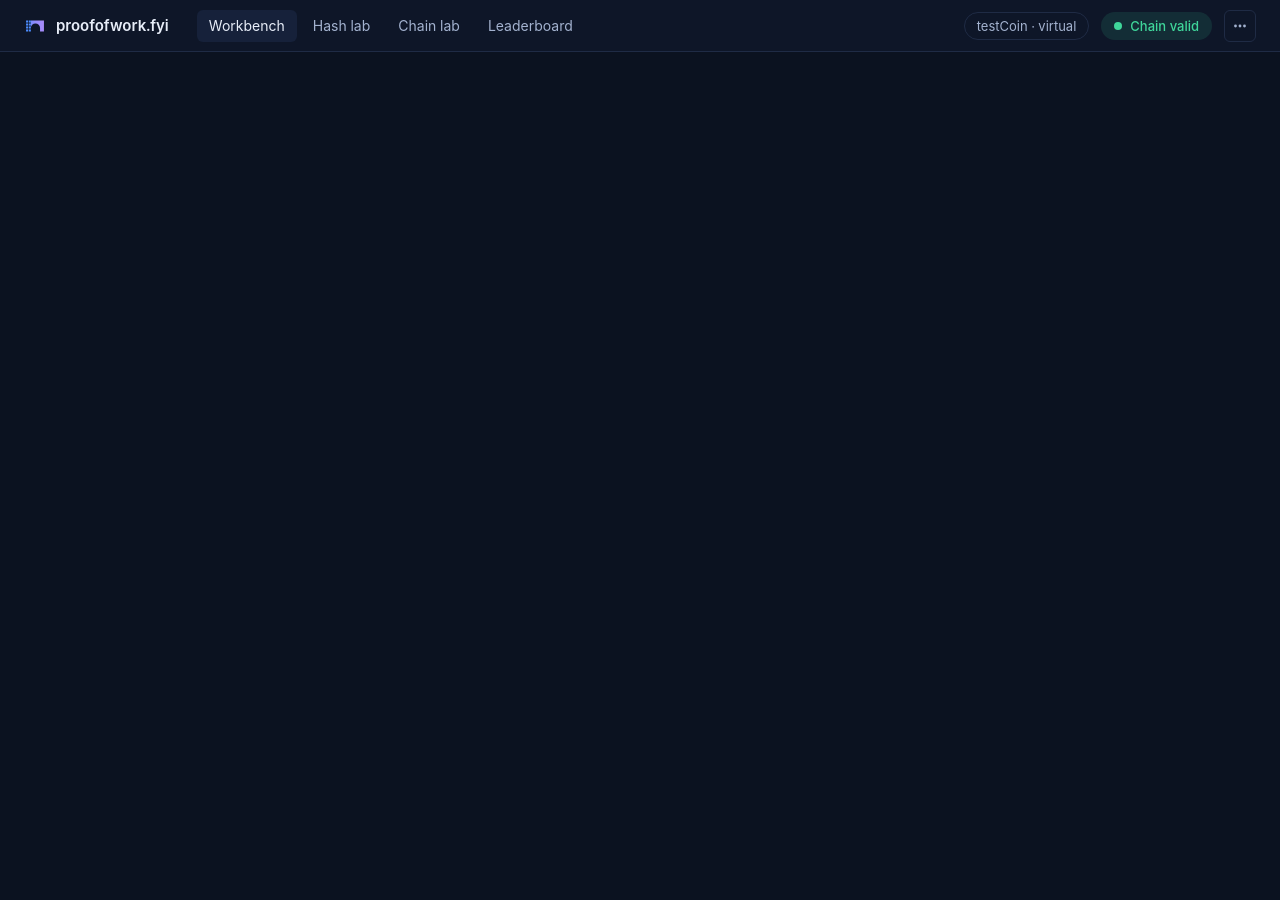
Test case: overflow menu › closes when the pointer goes down outside
Click the button named "More" at point(1240, 26), box [1224,10,1256,42]
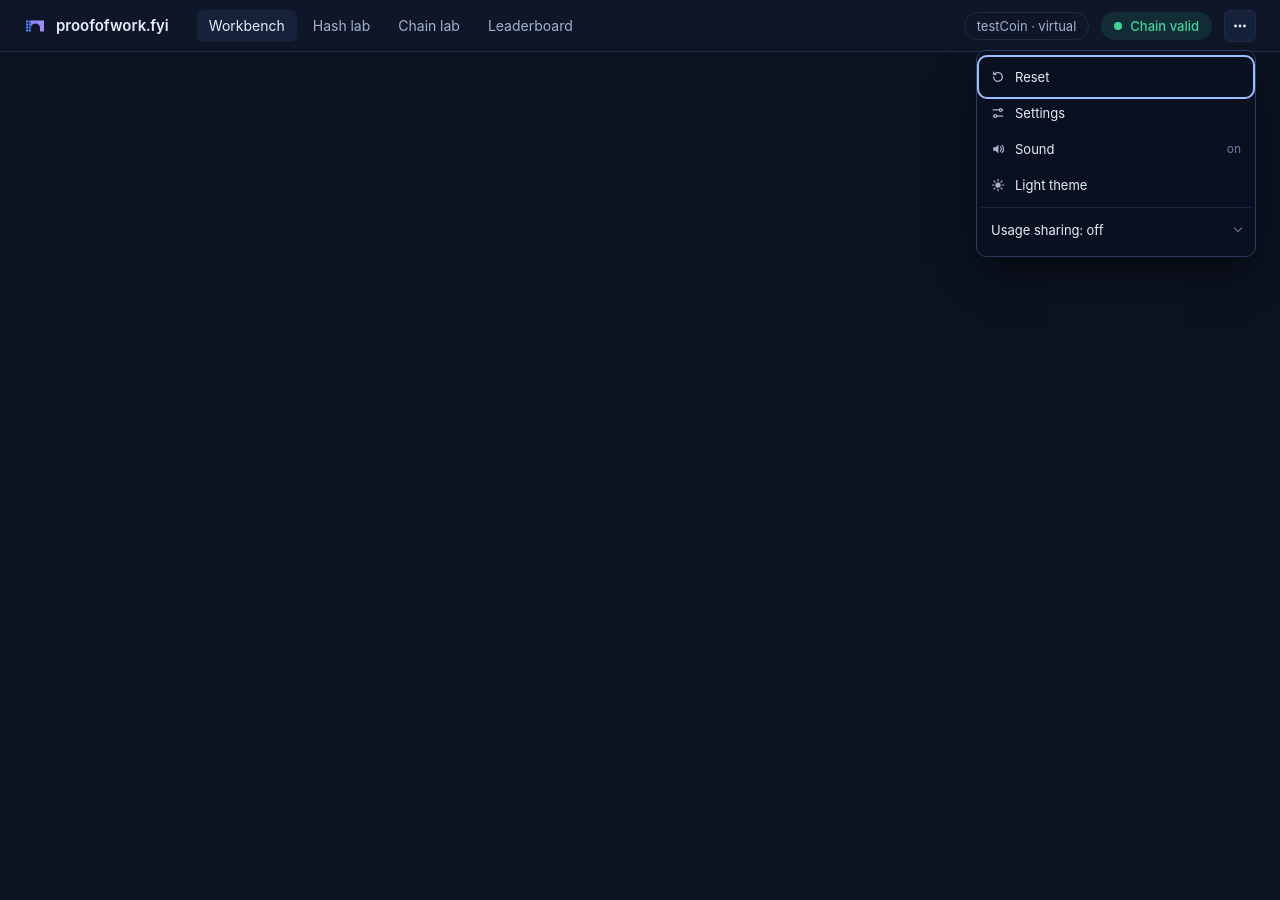
Press the mouse on the element that starts with "proofofwork.fyi" at point(640, 450), box [0,0,1279,899]
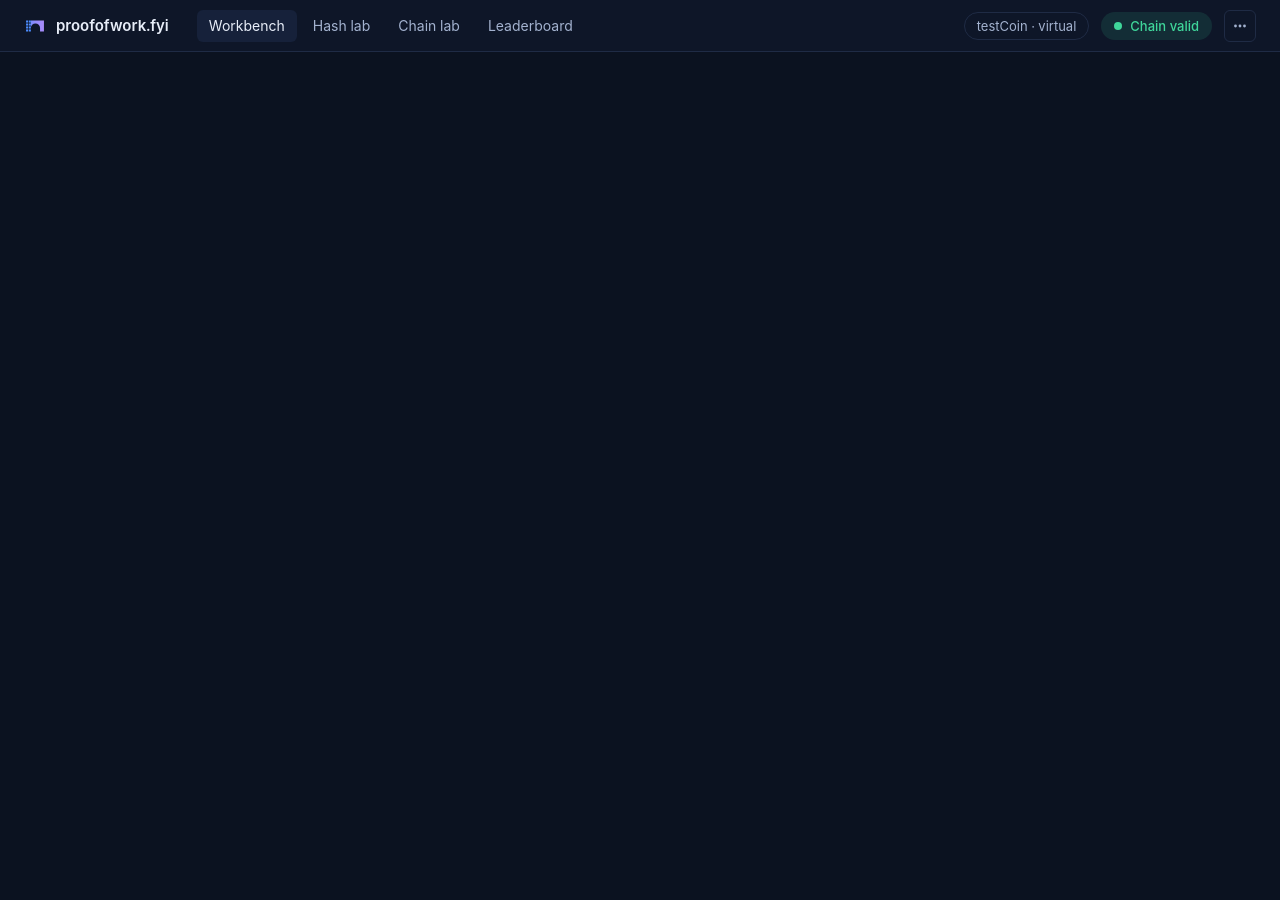
Expected: the button "Reset" is gone
